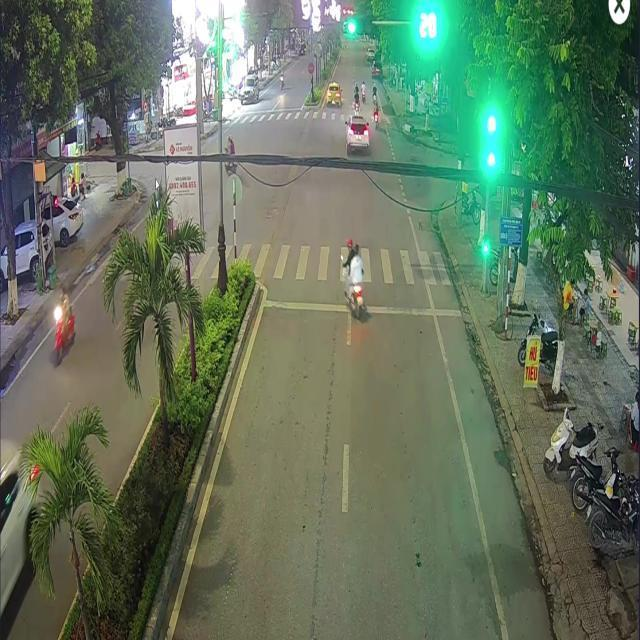car: (345, 116, 369, 151), (324, 82, 340, 103)
green_light: (346, 15, 373, 36), (486, 135, 495, 168), (483, 236, 487, 254)
motobike: (339, 253, 365, 318)
stop_line: (263, 299, 460, 315)
